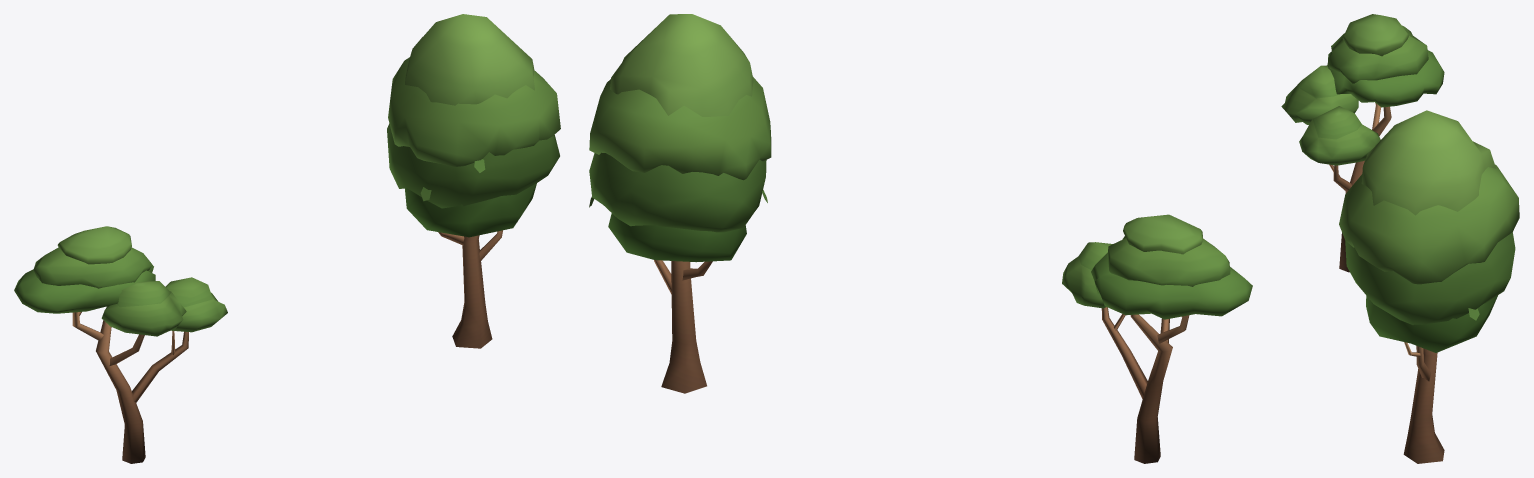
The model's file is Tree.fbx.
3 renders of one model, left to right at view 1: azimuth 30°, elevation 25°; view 2: azimuth 150°, elevation 25°; view 3: azimuth 270°, elevation 25°, orthographic. The views are drawn at different scales.
Parts seen in each view (by area): view 1: tree04.102, tree03.085; view 2: tree04.102, tree03.085; view 3: tree04.102, tree03.085.
Boxes of the visible parts, x1=… form: tree04.102: x1=387, y1=14, x2=560, y2=348; tree03.085: x1=14, y1=226, x2=227, y2=463; tree04.102: x1=589, y1=14, x2=771, y2=393; tree03.085: x1=1062, y1=214, x2=1252, y2=463; tree04.102: x1=1339, y1=110, x2=1519, y2=463; tree03.085: x1=1281, y1=14, x2=1444, y2=272.
Bounding box in the file's own units: 578 × 330 × 208.
